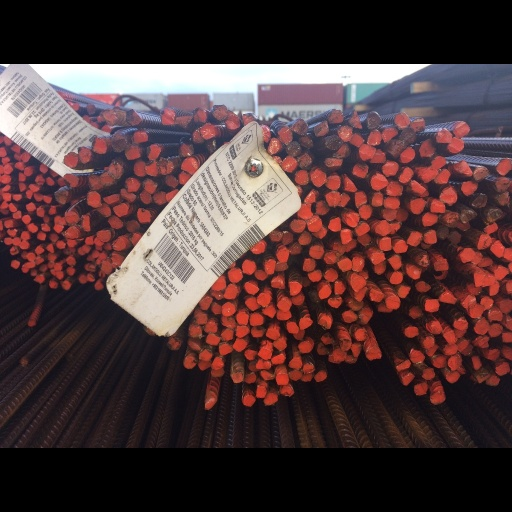dipstick: (180, 157, 198, 174), (310, 168, 326, 187), (297, 202, 314, 219), (324, 135, 343, 150), (420, 138, 435, 157), (226, 110, 240, 130), (389, 139, 405, 156), (496, 158, 512, 175), (108, 161, 123, 179), (371, 174, 387, 190), (440, 187, 456, 203), (158, 157, 173, 174), (200, 122, 215, 139), (297, 153, 312, 170), (359, 308, 374, 325), (435, 128, 452, 143), (453, 122, 470, 137), (457, 160, 472, 177), (86, 191, 101, 207), (145, 160, 160, 176), (192, 107, 207, 123), (292, 120, 308, 135), (281, 157, 297, 172), (338, 126, 353, 142), (367, 130, 382, 146), (352, 163, 368, 178), (343, 176, 358, 192), (327, 175, 342, 191), (325, 190, 340, 206), (400, 129, 415, 145), (409, 198, 424, 214), (448, 138, 464, 153), (111, 134, 125, 151), (367, 112, 381, 129), (358, 145, 375, 159), (399, 167, 413, 184), (461, 181, 478, 195), (394, 112, 409, 127), (211, 275, 226, 290), (410, 179, 425, 194), (407, 231, 422, 246), (146, 145, 160, 161), (141, 179, 157, 193), (161, 109, 175, 125), (212, 104, 226, 120), (278, 128, 292, 144), (376, 220, 390, 236), (382, 161, 398, 175), (401, 147, 415, 163), (386, 183, 402, 197), (487, 208, 503, 222), (78, 146, 91, 163), (120, 189, 137, 202), (490, 240, 503, 257), (430, 156, 447, 169), (323, 158, 345, 168), (63, 227, 81, 239), (103, 110, 117, 125), (126, 110, 141, 124), (92, 138, 106, 153), (88, 174, 102, 189), (125, 178, 140, 192), (268, 139, 282, 154), (313, 122, 328, 136), (294, 170, 308, 185), (329, 109, 343, 124), (351, 275, 365, 290), (370, 149, 385, 163), (382, 127, 397, 141), (228, 268, 242, 283), (277, 297, 291, 312), (188, 324, 203, 338), (366, 346, 381, 360), (388, 255, 402, 270), (406, 265, 421, 279), (430, 391, 445, 405), (469, 304, 484, 318), (477, 234, 491, 249), (474, 167, 489, 181), (472, 194, 487, 208), (100, 172, 116, 185), (334, 145, 350, 158), (354, 190, 367, 206), (175, 115, 192, 127), (439, 292, 456, 304), (54, 190, 68, 204), (112, 237, 126, 251), (411, 117, 425, 131), (242, 260, 256, 274), (224, 284, 238, 298), (423, 168, 437, 182), (64, 152, 77, 167), (125, 146, 140, 159), (137, 207, 150, 222), (355, 223, 370, 236), (369, 289, 384, 302), (422, 213, 437, 226), (393, 240, 408, 253), (461, 209, 476, 222), (494, 266, 509, 279), (496, 177, 509, 192), (134, 160, 146, 176), (242, 113, 258, 125), (384, 197, 400, 209), (65, 212, 79, 225), (109, 215, 123, 228), (114, 203, 128, 216), (165, 174, 178, 188), (287, 142, 300, 156), (316, 201, 329, 215), (328, 217, 341, 231), (308, 218, 321, 232), (324, 268, 338, 281), (257, 293, 270, 307), (245, 297, 258, 311), (222, 302, 235, 316), (249, 313, 263, 326), (234, 338, 247, 352), (199, 349, 213, 362), (386, 296, 400, 309), (398, 285, 411, 299), (410, 351, 424, 364), (448, 356, 461, 370), (496, 362, 509, 376), (476, 335, 489, 349), (460, 248, 474, 261), (462, 294, 475, 308), (475, 320, 488, 334), (436, 170, 450, 183), (489, 323, 502, 337), (221, 316, 236, 328), (218, 343, 233, 355), (167, 338, 182, 350), (347, 300, 365, 310), (416, 281, 431, 293), (445, 371, 460, 383), (447, 212, 459, 227), (430, 200, 445, 212), (103, 194, 120, 204), (80, 214, 90, 231), (350, 111, 360, 128), (139, 191, 152, 204), (180, 143, 193, 156), (351, 133, 364, 146), (346, 214, 359, 227), (339, 258, 352, 271), (302, 259, 315, 272), (299, 340, 312, 353), (265, 392, 278, 405), (409, 306, 422, 319), (401, 373, 414, 386), (414, 382, 427, 395), (64, 174, 78, 186), (133, 131, 147, 143), (130, 233, 142, 247), (126, 220, 140, 232), (166, 189, 178, 203), (290, 220, 304, 232), (309, 246, 323, 258), (352, 257, 364, 271), (380, 237, 392, 251), (383, 209, 397, 221), (371, 192, 383, 206), (250, 241, 264, 253), (308, 270, 322, 282), (199, 297, 213, 309), (206, 333, 220, 345), (236, 326, 250, 338), (266, 328, 280, 340), (298, 317, 312, 329), (280, 385, 294, 397), (355, 287, 367, 301), (389, 272, 403, 284), (425, 300, 439, 312), (433, 356, 447, 368), (430, 320, 442, 334), (444, 330, 456, 344), (424, 229, 436, 243), (360, 205, 371, 220), (244, 282, 259, 293), (342, 311, 357, 322), (443, 344, 458, 355), (501, 345, 512, 360), (261, 124, 270, 142), (192, 128, 202, 144), (101, 261, 113, 274), (178, 172, 191, 184), (300, 136, 313, 148), (325, 252, 338, 264), (319, 286, 331, 299), (263, 306, 276, 318), (221, 329, 234, 341), (183, 356, 195, 369), (275, 373, 288, 385), (355, 328, 367, 341), (422, 368, 435, 380), (500, 300, 512, 313), (97, 206, 111, 217), (110, 253, 124, 264), (341, 229, 352, 243), (313, 228, 327, 239), (277, 247, 288, 261), (328, 297, 342, 308), (290, 281, 301, 295), (405, 326, 419, 337), (476, 371, 490, 382), (498, 192, 509, 206), (339, 193, 349, 208), (264, 259, 274, 274), (434, 260, 449, 270), (489, 281, 499, 296), (154, 192, 166, 204), (396, 209, 408, 221), (281, 232, 293, 244), (236, 312, 248, 324), (319, 316, 331, 328), (211, 357, 223, 369), (289, 357, 301, 369), (315, 370, 327, 382), (449, 231, 461, 243), (97, 230, 110, 241), (304, 190, 315, 203), (372, 252, 385, 263), (269, 230, 282, 241), (288, 244, 301, 255), (271, 277, 284, 288), (194, 314, 207, 325), (251, 327, 264, 338), (259, 348, 272, 359), (425, 345, 438, 356), (357, 235, 371, 245), (334, 281, 344, 295), (256, 359, 270, 369), (271, 353, 285, 363), (316, 344, 330, 354), (351, 343, 361, 357), (396, 360, 410, 370), (454, 320, 468, 330), (473, 271, 483, 285), (488, 311, 502, 321), (333, 242, 345, 253), (299, 233, 311, 244), (391, 222, 402, 234), (205, 322, 217, 333), (287, 321, 298, 333), (274, 339, 286, 350), (333, 350, 345, 361), (244, 395, 255, 407), (374, 263, 385, 275), (487, 349, 499, 360), (482, 297, 493, 309), (291, 295, 304, 305), (260, 370, 273, 380), (320, 335, 333, 345), (341, 338, 351, 351), (256, 385, 266, 398), (437, 226, 447, 239), (484, 223, 497, 233), (274, 262, 288, 271), (244, 372, 255, 383), (346, 239, 356, 251), (212, 302, 222, 314), (245, 350, 257, 360), (188, 340, 200, 350), (289, 370, 301, 380), (378, 304, 393, 312), (419, 254, 429, 266), (458, 222, 471, 231), (468, 285, 481, 294), (210, 369, 224, 377), (472, 355, 480, 369), (434, 271, 448, 279), (3, 163, 13, 174), (27, 223, 38, 233), (34, 274, 45, 284), (255, 270, 266, 280), (293, 329, 304, 339), (199, 360, 210, 370), (232, 372, 242, 383), (303, 363, 314, 373), (424, 337, 434, 348), (462, 345, 473, 355), (472, 253, 482, 264), (484, 276, 495, 286), (212, 290, 224, 299), (301, 373, 313, 382), (205, 398, 214, 410), (487, 376, 499, 385), (502, 332, 512, 342), (29, 183, 40, 192), (85, 263, 96, 272), (64, 247, 76, 255), (480, 258, 492, 266), (86, 104, 95, 114), (21, 152, 30, 162), (14, 162, 24, 171), (35, 175, 44, 185), (39, 164, 48, 174), (26, 202, 36, 211), (7, 228, 17, 237), (27, 252, 36, 262), (66, 256, 76, 265), (85, 235, 94, 245), (36, 206, 44, 217), (346, 355, 357, 363), (455, 329, 466, 337), (328, 355, 340, 362), (2, 192, 11, 201), (2, 184, 11, 193), (12, 210, 21, 219), (10, 246, 19, 255), (11, 260, 20, 269), (56, 240, 65, 249), (61, 281, 70, 290), (0, 175, 10, 183), (46, 176, 54, 186), (48, 205, 56, 215), (22, 214, 30, 224), (19, 240, 29, 248), (359, 271, 369, 279), (458, 340, 466, 350), (24, 167, 32, 176), (43, 195, 52, 203), (41, 223, 50, 231), (4, 219, 13, 227), (35, 246, 44, 254), (36, 232, 45, 240), (49, 233, 58, 241), (53, 263, 62, 271), (78, 275, 87, 283), (77, 247, 86, 255), (94, 237, 103, 245), (249, 362, 257, 371), (506, 319, 512, 331), (5, 136, 12, 146), (12, 194, 22, 201), (12, 145, 20, 153), (1, 156, 9, 164), (34, 193, 42, 201), (4, 237, 12, 245), (12, 237, 20, 245), (21, 232, 29, 240), (36, 256, 44, 264), (49, 281, 57, 289), (66, 267, 74, 275), (95, 282, 103, 290), (20, 358, 28, 366), (18, 172, 25, 181), (18, 182, 25, 191), (9, 202, 16, 211), (47, 244, 54, 253), (47, 254, 56, 261), (82, 245, 91, 252), (0, 147, 6, 157), (66, 240, 76, 246), (14, 153, 21, 161), (58, 177, 65, 185), (0, 202, 8, 209), (39, 265, 47, 272), (56, 271, 63, 279), (87, 273, 94, 281), (103, 243, 111, 250), (91, 250, 99, 257), (49, 170, 58, 176), (82, 115, 89, 122), (21, 265, 28, 272), (30, 269, 37, 276), (46, 261, 53, 268), (99, 252, 106, 259), (72, 102, 78, 110), (26, 190, 32, 198), (21, 251, 27, 259), (26, 262, 35, 267), (97, 116, 103, 123), (43, 215, 49, 222), (98, 271, 105, 277), (28, 321, 34, 327), (87, 255, 94, 260), (51, 269, 55, 275)
